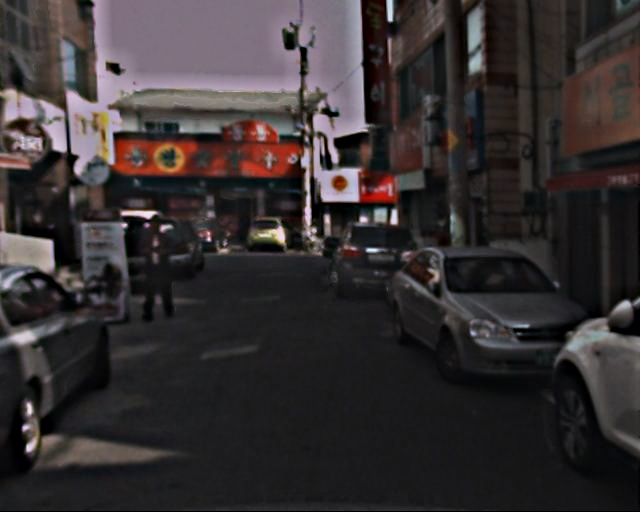person: (135, 215, 183, 324)
